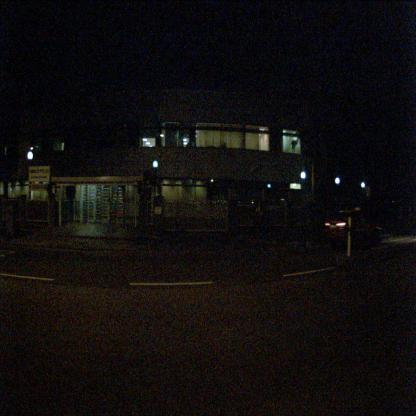vehicle-car: (324, 208, 383, 246)
